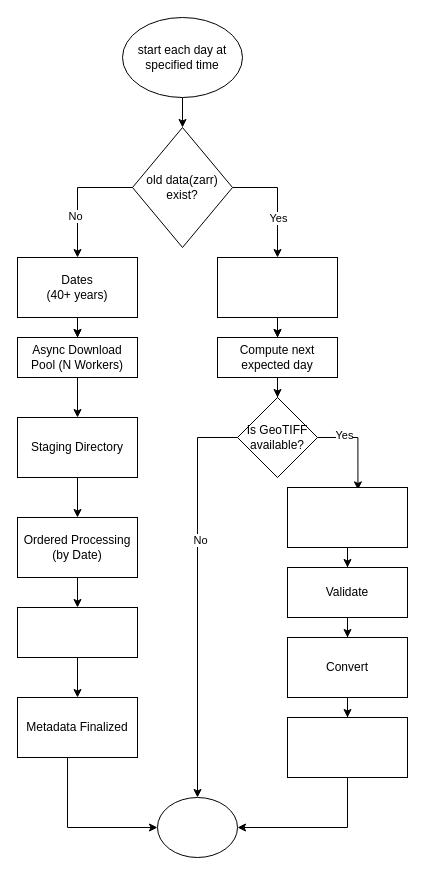
This 425x875 diagram has some shape labels left out. Here are the shapes that lost their labels. From the top down, the centre of each, then its label:
At point 277,287: "Check latest date in Zarr".
At point 347,517: "Download".
At point 77,632: "Sequential Zarr Append (locked)".
At point 347,747: "Append to Zarr".
At point 197,827: "Exit".
